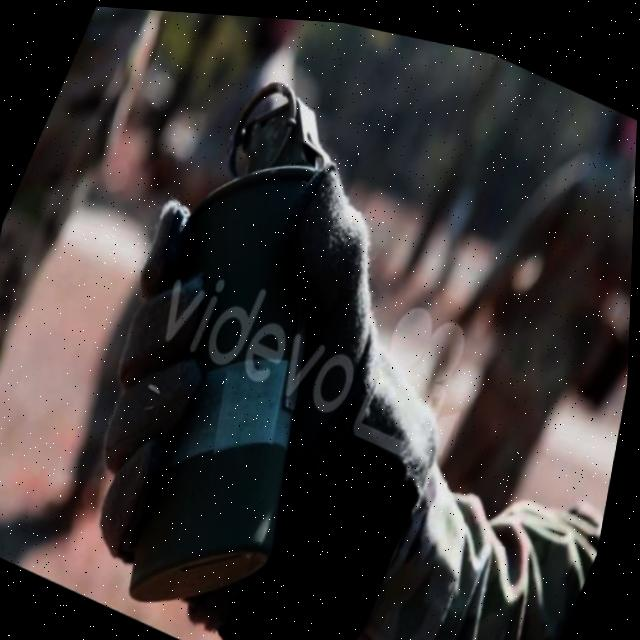grenade: (33, 40, 452, 640)
